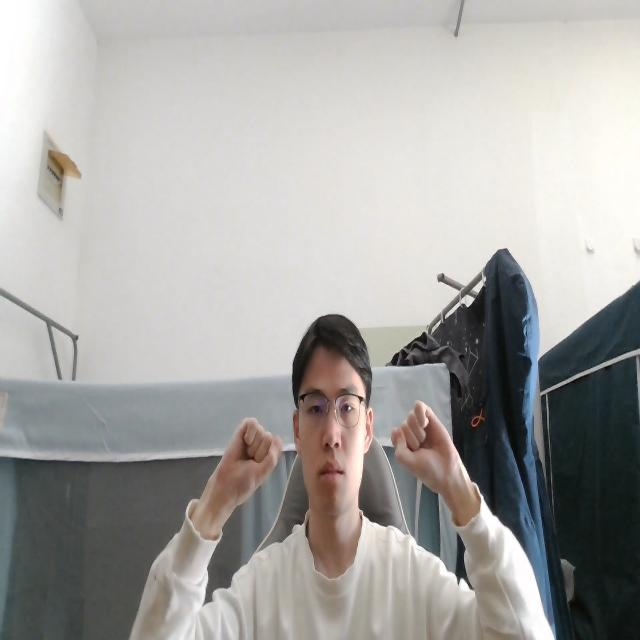ten: (386, 398, 472, 507), (202, 415, 284, 522)
